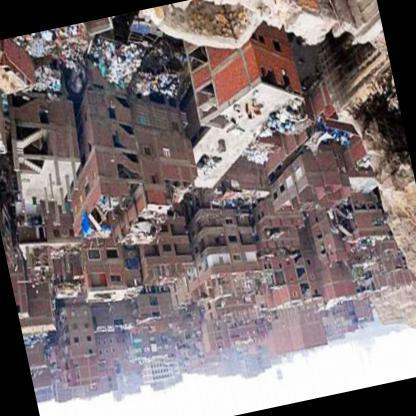Garbage: (23, 23, 90, 70), (96, 33, 140, 87), (258, 104, 315, 140), (130, 60, 178, 102), (27, 66, 64, 101)
